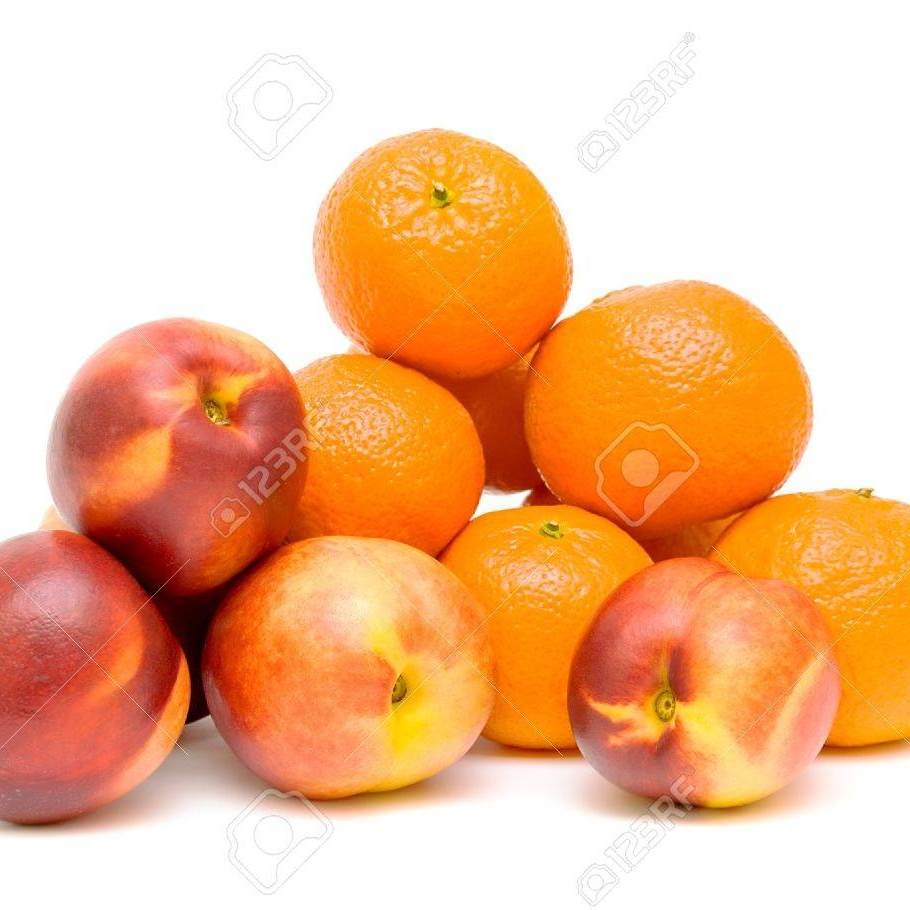mandarin: (526, 280, 811, 537), (317, 132, 566, 388), (433, 505, 653, 754), (699, 489, 910, 743), (284, 355, 488, 557)
